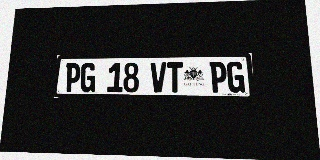1: (107, 63, 123, 92)
8: (123, 62, 139, 92)
G: (227, 61, 245, 93), (80, 63, 96, 92)
P: (209, 62, 227, 93), (64, 63, 81, 92)
T: (167, 62, 183, 92)
V: (150, 62, 166, 92)
